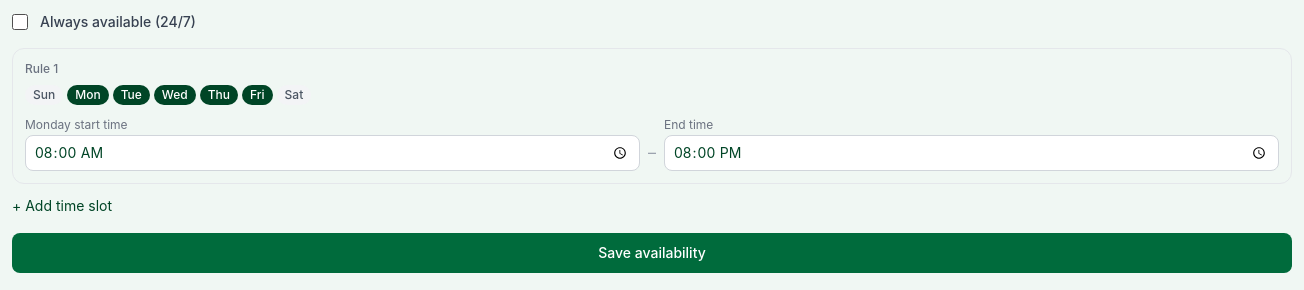
Test: <AvailabilityGrid /> — edit mode (host) › "Always available" toggle shows/hides weekly grid
Expected: the element with test id "weekly-grid" is shown, left=12, top=48, right=1292, bottom=217
Click the checkbox labelled "Always available".
click(20, 22)  # box left=12, top=14, right=28, bottom=30
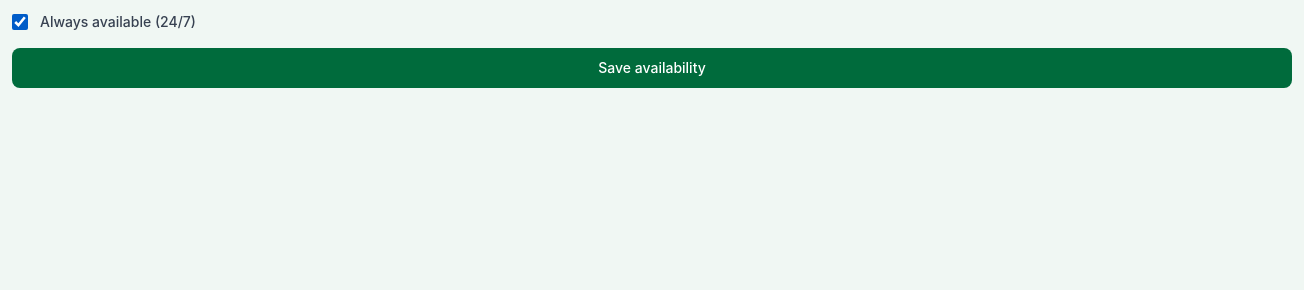
Result: the element with test id "weekly-grid" is gone
